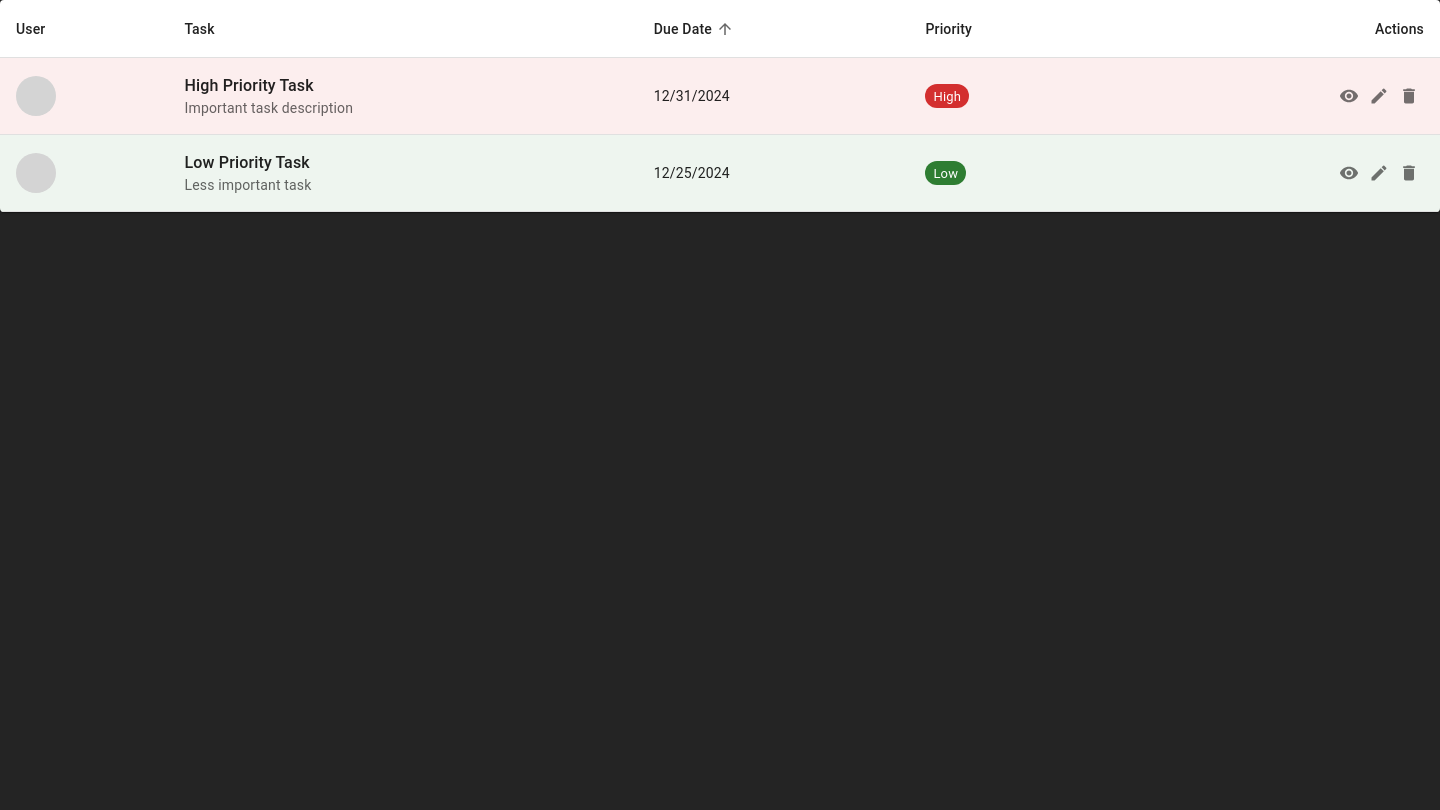
Scenario: TasksTableFull › opens view dialog when clicking view button
Click the button named "view task" in the row of "High Priority Task" at {"x": 1349, "y": 96}, box x1=1334 y1=81 x2=1364 y2=111
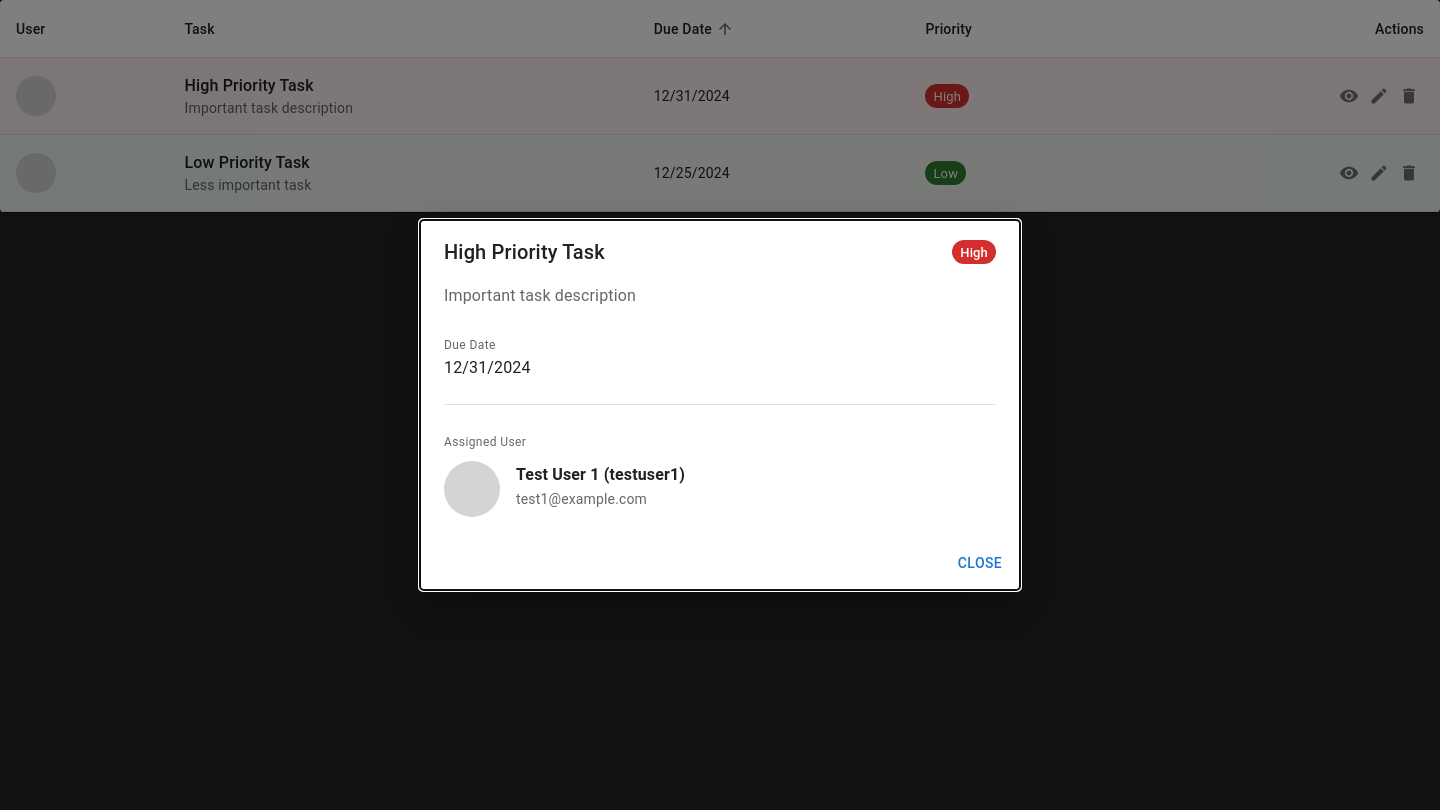
Now the dialog is shown, box x1=420 y1=220 x2=1020 y2=590
Now the text "High Priority Task" is shown, box x1=444 y1=240 x2=605 y2=264
